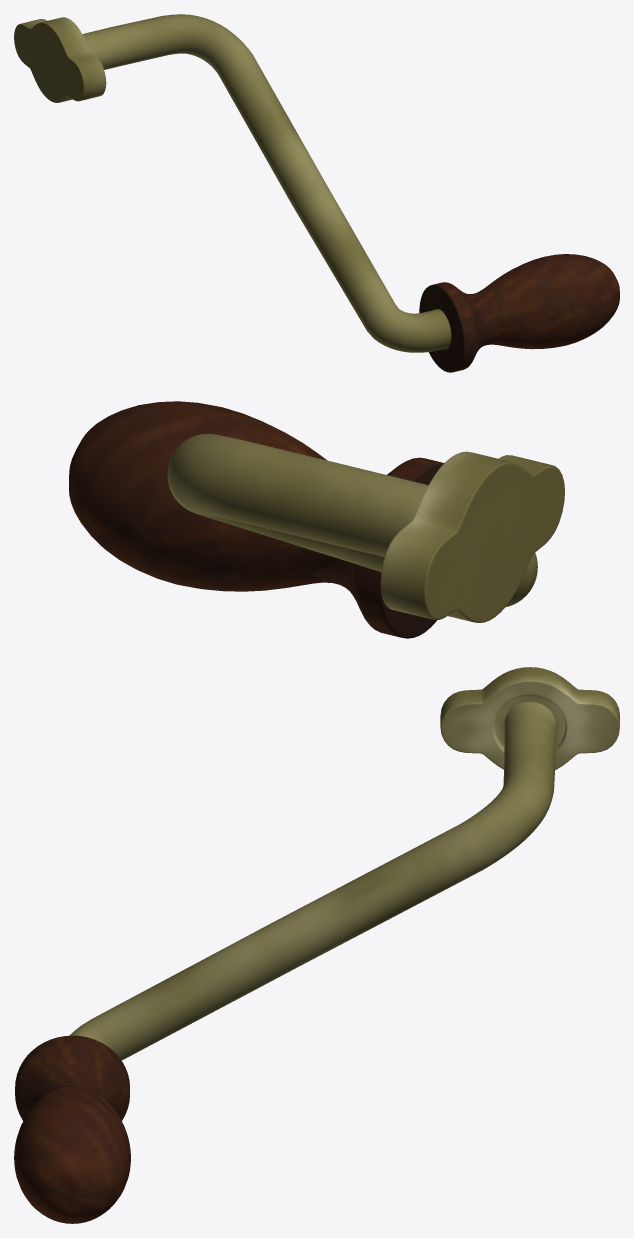
Rendered from manivela.obj.
The picture shows the model from 3 angles, top to bottom: view 1: azimuth 30°, elevation 25°; view 2: azimuth 150°, elevation 25°; view 3: azimuth 270°, elevation 25°; orthographic projection. The views are drawn at different scales.
Parts seen in each view (by area): view 1: polySurface67 _Victor_V_phonograph_v2_Texture:_Victor_V_phonogra; view 2: polySurface67 _Victor_V_phonograph_v2_Texture:_Victor_V_phonogra; view 3: polySurface67 _Victor_V_phonograph_v2_Texture:_Victor_V_phonogra.
Boxes of the visible parts, box(x1,y1,x2,y2) form: polySurface67 _Victor_V_phonograph_v2_Texture:_Victor_V_phonogra: box(14, 14, 619, 372); polySurface67 _Victor_V_phonograph_v2_Texture:_Victor_V_phonogra: box(69, 401, 564, 638); polySurface67 _Victor_V_phonograph_v2_Texture:_Victor_V_phonogra: box(14, 667, 619, 1223).
Size of the model in its own units: 0.8001 by 0.528 by 0.8523.
1 material, 1 textured.
